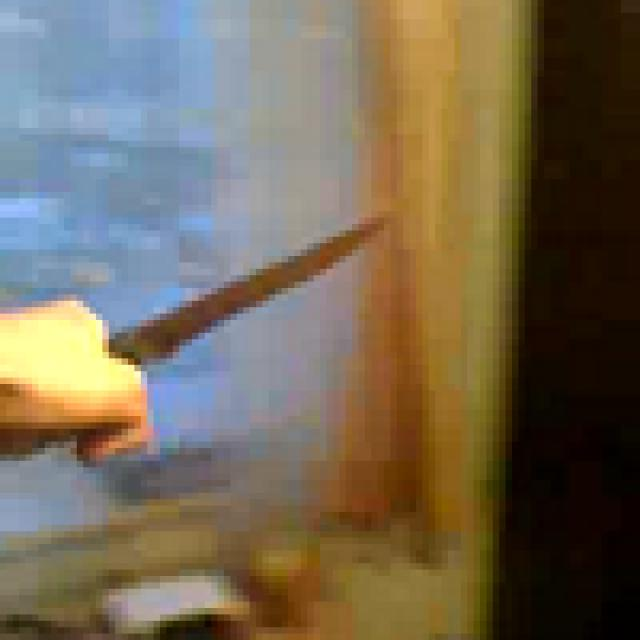Knife: (51, 160, 429, 429)
